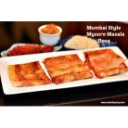dosa: (5, 59, 51, 88), (82, 49, 128, 77), (44, 55, 91, 82)
